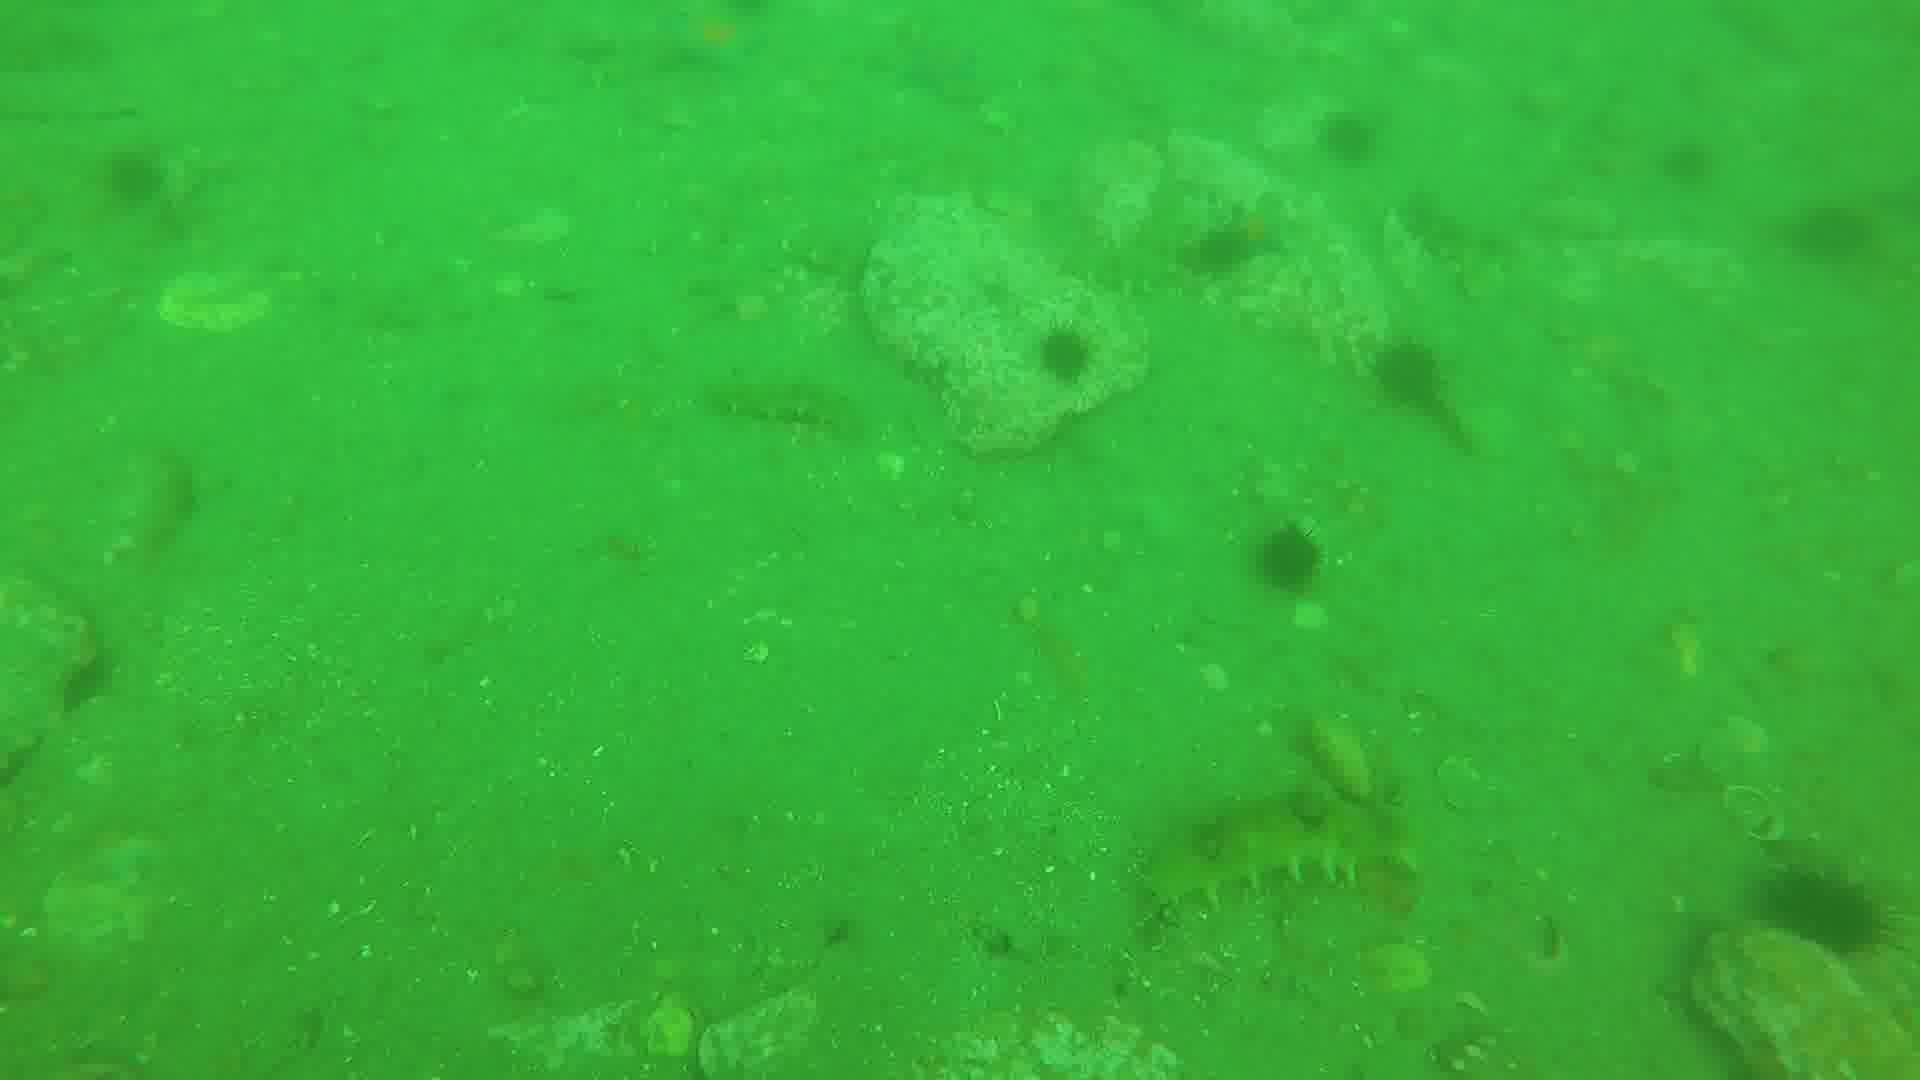echinus: (1778, 866, 1884, 967), (1811, 203, 1894, 276), (1379, 347, 1451, 407), (105, 146, 171, 208), (1261, 530, 1324, 593), (1195, 222, 1246, 289), (1036, 323, 1093, 382), (1668, 138, 1724, 194), (1323, 111, 1375, 158)
holothurian: (1153, 804, 1422, 913), (702, 369, 865, 434), (1411, 190, 1515, 270), (1073, 240, 1185, 299)
starfish: (642, 16, 767, 80), (1224, 198, 1298, 255)
